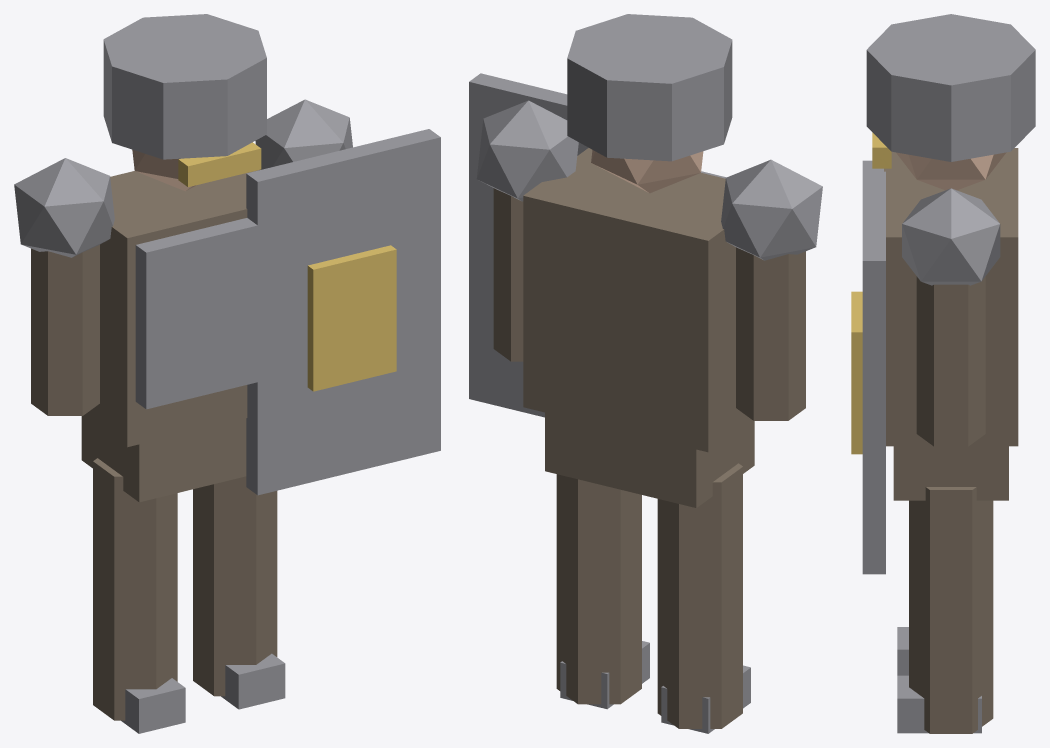
The model's file is tank.glb.
3 views of the same model, side by side, from view 1: azimuth 30°, elevation 25°; view 2: azimuth 150°, elevation 25°; view 3: azimuth 270°, elevation 25° (orthographic).
Parts seen in each view (by area): view 1: tower_shield, chest_plate, helm, torso, leg_l, leg_r, tower_emblem, arm_l, hips, shoulder_l, shoulder_r, foot_l (+3 smaller); view 2: torso, helm, leg_l, leg_r, hips, arm_l, tower_shield, shoulder_l, shoulder_r, arm_r, head, foot_r (+1 smaller); view 3: helm, leg_r, torso, arm_r, tower_shield, shoulder_r, hips, head, tower_emblem, foot_r, foot_l, visor.
Boxes of the visible parts, bbox=[...] form: tower_shield: bbox=[246, 129, 440, 495]; chest_plate: bbox=[135, 212, 312, 409]; helm: bbox=[103, 14, 266, 159]; torso: bbox=[84, 170, 259, 447]; leg_l: bbox=[93, 458, 177, 720]; leg_r: bbox=[193, 476, 277, 696]; tower_emblem: bbox=[307, 245, 396, 391]; arm_l: bbox=[31, 244, 99, 415]; hips: bbox=[81, 415, 246, 502]; shoulder_l: bbox=[14, 158, 114, 257]; shoulder_r: bbox=[255, 99, 352, 169]; foot_l: bbox=[121, 678, 185, 733]; torso: bbox=[523, 148, 752, 452]; helm: bbox=[567, 14, 732, 161]; leg_l: bbox=[657, 463, 742, 728]; leg_r: bbox=[556, 474, 641, 704]; hips: bbox=[545, 412, 754, 507]; arm_l: bbox=[736, 247, 805, 420]; tower_shield: bbox=[469, 73, 588, 417]; shoulder_l: bbox=[721, 159, 822, 260]; shoulder_r: bbox=[476, 100, 578, 201]; arm_r: bbox=[493, 188, 523, 361]; head: bbox=[591, 150, 703, 193]; foot_r: bbox=[560, 641, 649, 709]; helm: bbox=[866, 14, 1035, 161]; leg_r: bbox=[909, 487, 993, 733]; torso: bbox=[884, 148, 1018, 446]; arm_r: bbox=[916, 276, 985, 446]; tower_shield: bbox=[862, 171, 885, 574]; shoulder_r: bbox=[902, 188, 1000, 285]; hips: bbox=[893, 446, 1008, 500]; head: bbox=[896, 152, 1006, 190]; tower_emblem: bbox=[851, 291, 862, 454]; foot_r: bbox=[897, 675, 981, 733]; foot_l: bbox=[897, 627, 908, 675]; visor: bbox=[872, 132, 891, 168].
Size of the model in its own units: 1.13 by 1.86 by 0.48.
